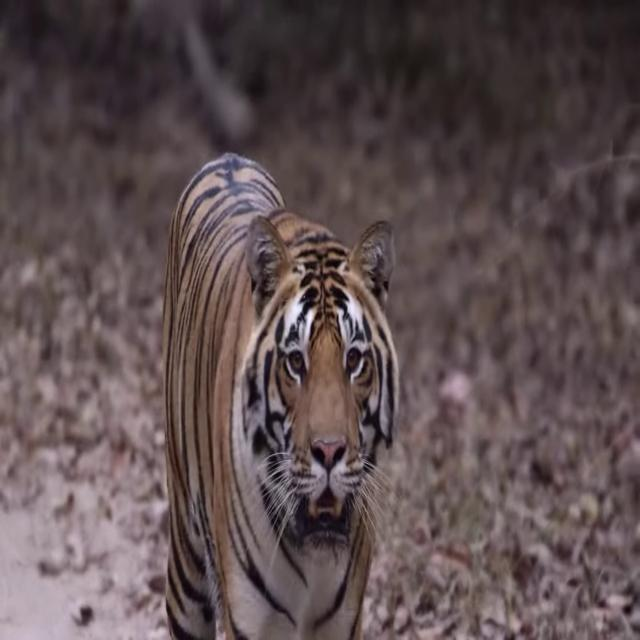tiger: (161, 152, 400, 640)
